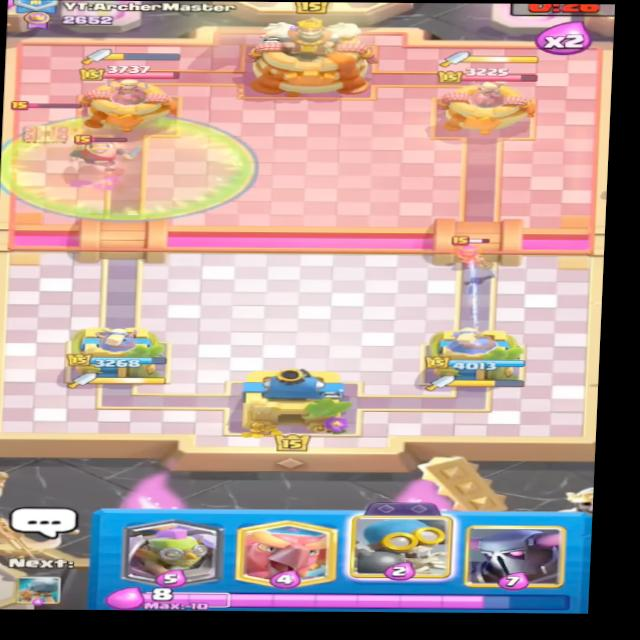archer: (450, 238, 490, 263)
knight: (70, 134, 140, 169)
tesla-closed: (3, 97, 90, 153)
